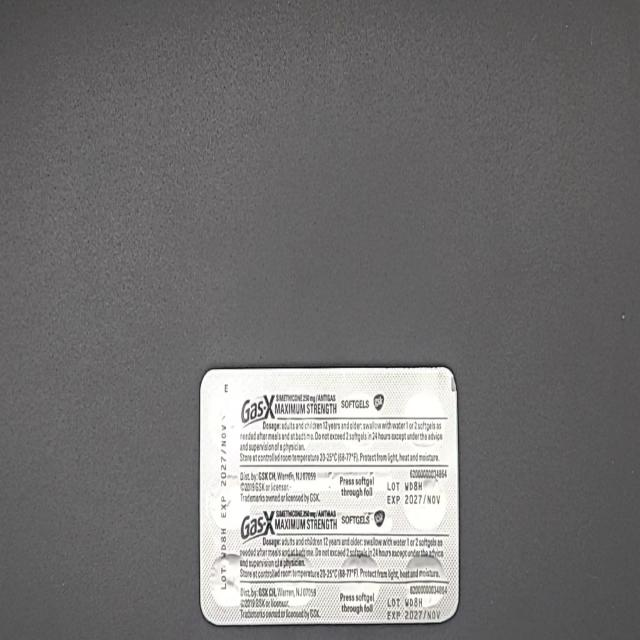no defect: (12, 13, 32, 50)
